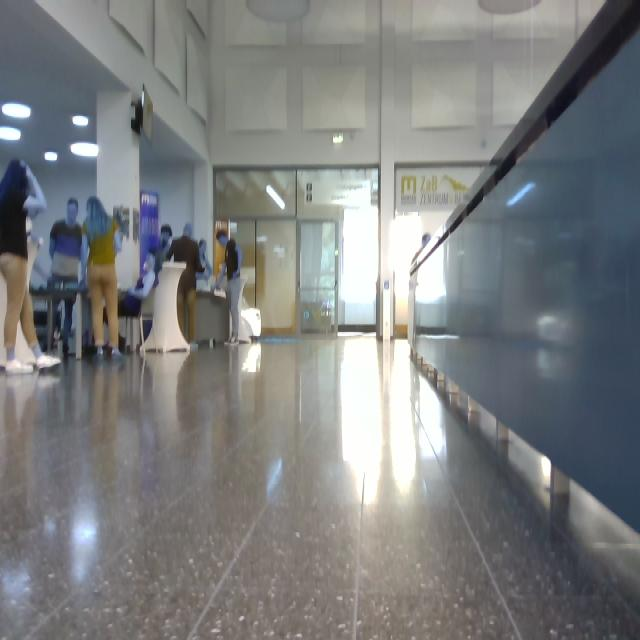door: (256, 221, 295, 334), (230, 221, 256, 309)
light bulb: (247, 1, 310, 22), (478, 1, 542, 16), (267, 185, 285, 210), (3, 104, 31, 120), (71, 142, 98, 156), (1, 126, 21, 140), (73, 116, 89, 126), (45, 152, 58, 162), (333, 133, 342, 144)
person: (1, 160, 60, 373), (83, 197, 120, 356), (49, 197, 84, 357), (216, 232, 242, 344)
tiled floor: (1, 338, 640, 640)
